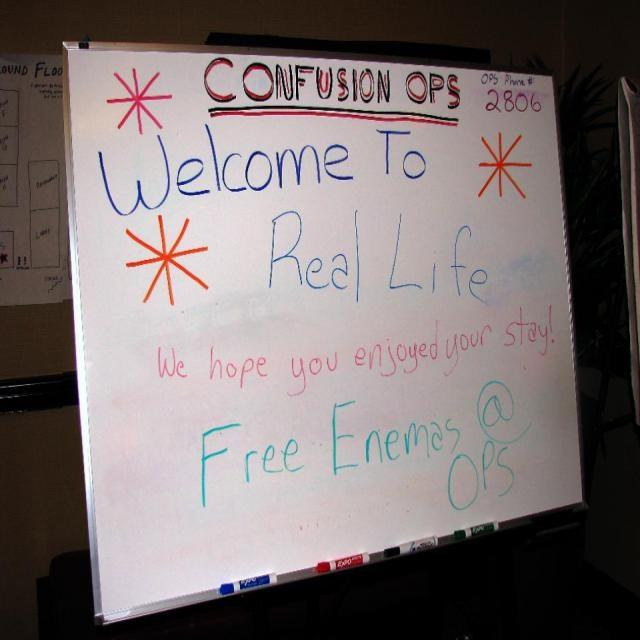Whiteboard: (60, 39, 589, 629)
